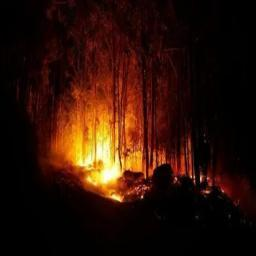Small fire: (23, 67, 210, 206)
